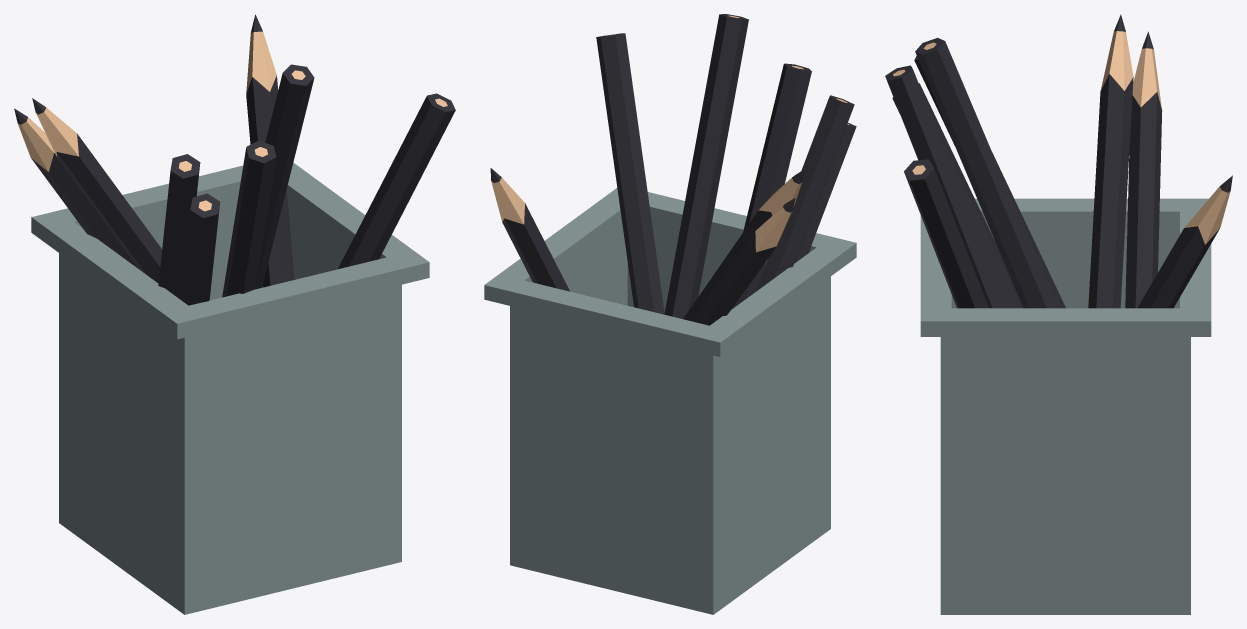
Rendered from Lapices.glb.
3 renders of one model, left to right at view 1: azimuth 30°, elevation 25°; view 2: azimuth 150°, elevation 25°; view 3: azimuth 270°, elevation 25°, orthographic. The views are drawn at different scales.
Parts seen in each view (by area): view 1: Caja; view 2: Caja; view 3: Caja.
Boxes of the visible parts, bbox=[...] form: Caja: bbox=[14, 14, 455, 614]; Caja: bbox=[484, 14, 856, 614]; Caja: bbox=[885, 14, 1232, 614].
Size of the model in its own units: 2.99 by 4.76 by 2.78.
